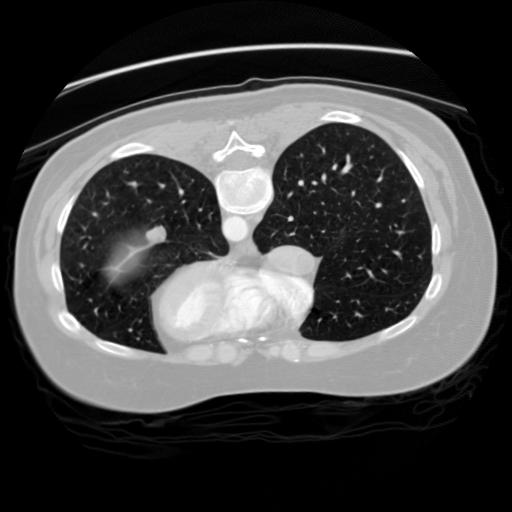nodule: (146, 224, 171, 249)
